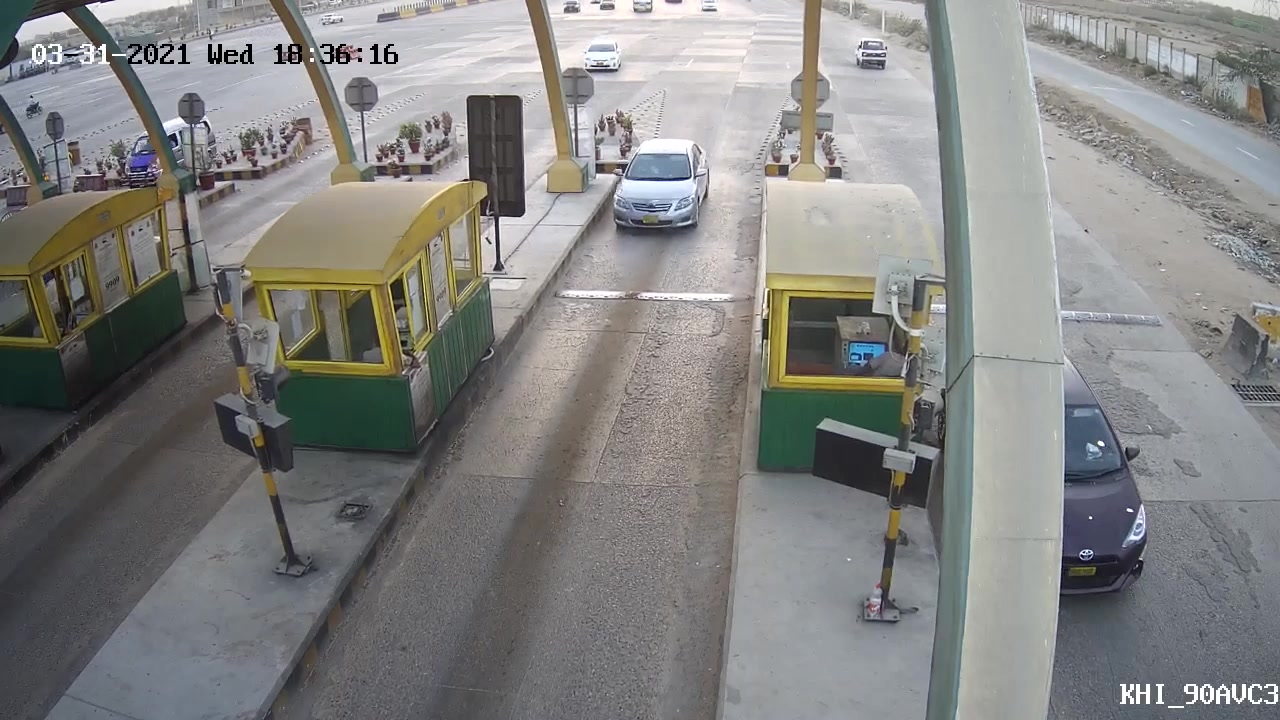F1: (602, 129, 715, 241)
